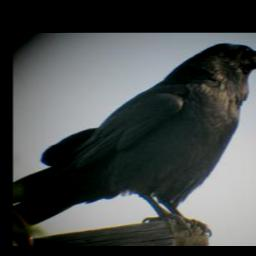Crow: (13, 41, 256, 237)
